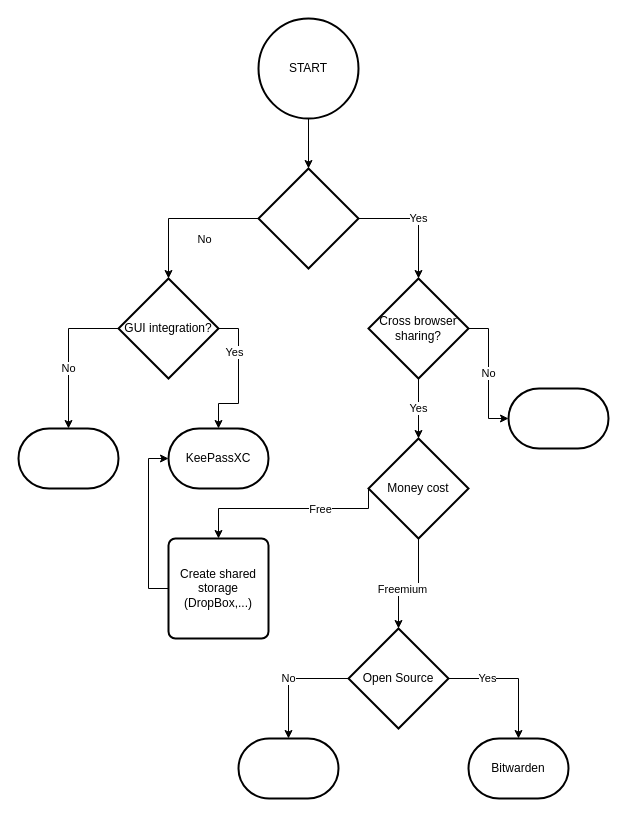
Image size: 626x816. Some labels were removed from this diagram. Here are the shapes that lost their labels. From the top down, the centre of each, then its label:
At [308,218]: "Cross device sharing?".
At [558,418]: "browser built-in".
At [68,458]: "Paper notebook".
At [288,768]: "Lastpass".
